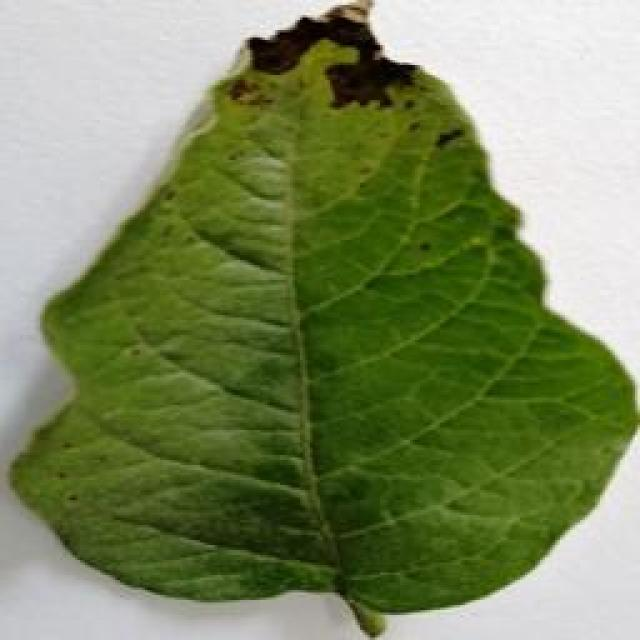Potato_Late_Blight: (7, 6, 624, 634)
